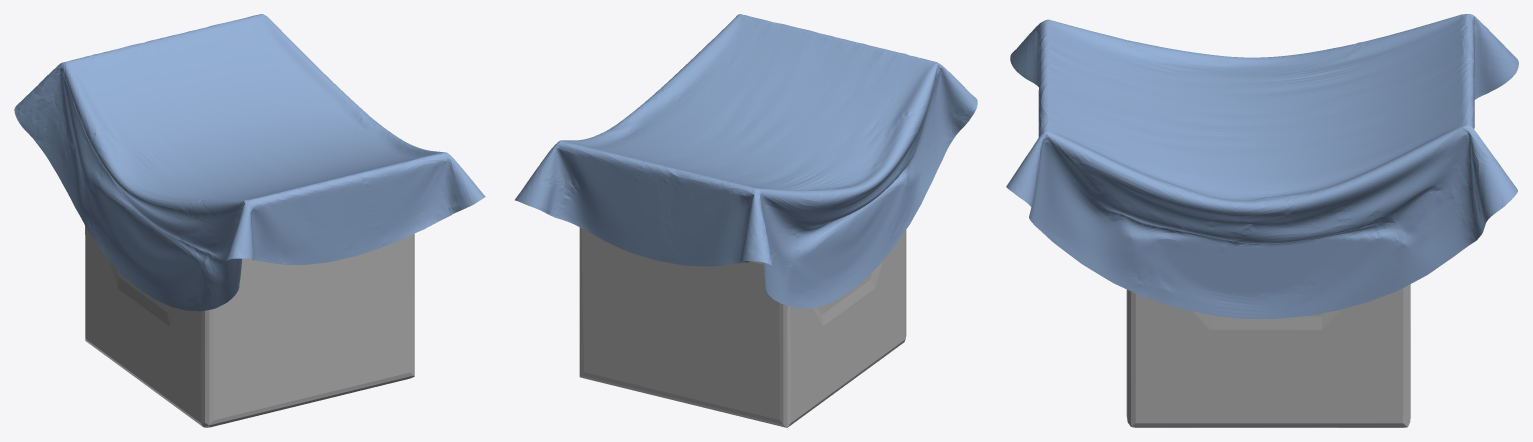
Rendered from level_4.glb.
3 views of the same model, side by side, from view 1: azimuth 30°, elevation 25°; view 2: azimuth 150°, elevation 25°; view 3: azimuth 270°, elevation 25° (orthographic). The views are drawn at different scales.
Parts seen in each view (by area): view 1: world, object.obj; view 2: world, object.obj; view 3: world, object.obj.
Part boxes in pixels (x1=…): world: x1=14, y1=14, x2=485, y2=311; object.obj: x1=85, y1=226, x2=414, y2=427; world: x1=515, y1=14, x2=977, y2=308; object.obj: x1=579, y1=227, x2=906, y2=427; world: x1=1006, y1=14, x2=1518, y2=318; object.obj: x1=1126, y1=284, x2=1410, y2=427.
Size of the model in its own units: 0.3129 by 0.296 by 0.4566.
